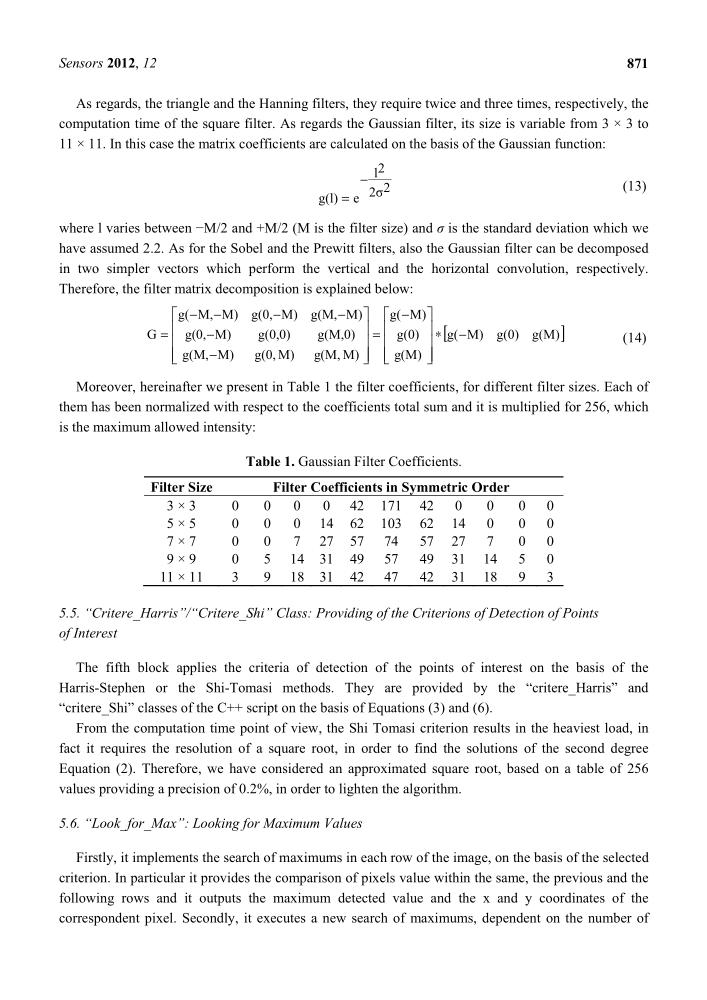table: (150, 479, 553, 584)
